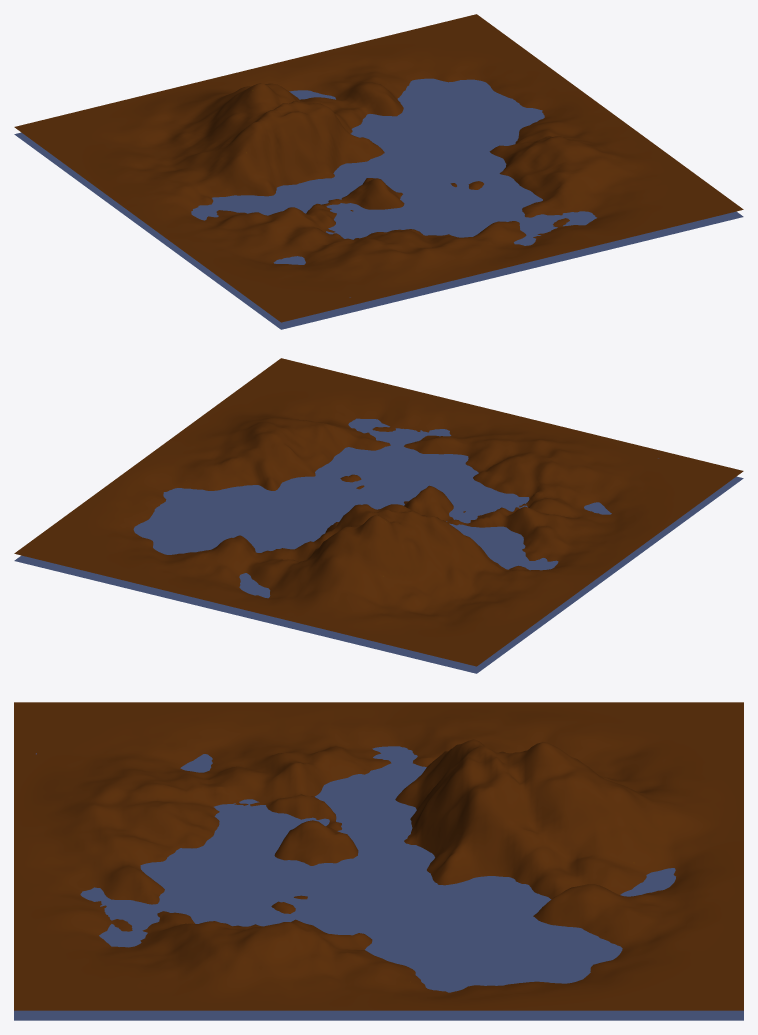
File: water.fbx
3 renders of one model, top to bottom at view 1: azimuth 30°, elevation 25°; view 2: azimuth 150°, elevation 25°; view 3: azimuth 270°, elevation 25°, orthographic. The views are drawn at different scales.
Parts seen in each view (by area): view 1: Landscape; view 2: Landscape; view 3: Landscape.
Boxes of the visible parts, left/top/right/bottom form: Landscape: left=14, top=14, right=743, bottom=329; Landscape: left=14, top=358, right=743, bottom=673; Landscape: left=14, top=702, right=743, bottom=1020.
Size of the model in its own units: 200 by 32.76 by 200.
2 materials, 2 textured.
